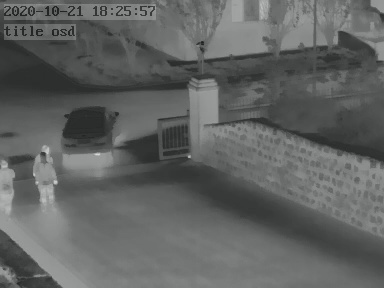person: (32, 149, 58, 206), (1, 155, 19, 220)
vehicle: (60, 107, 118, 157)
